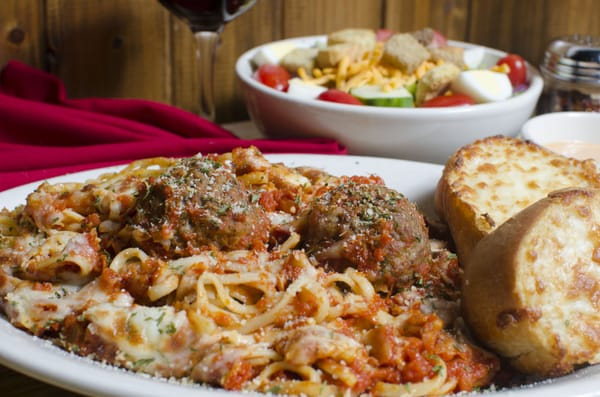pizza: (157, 0, 256, 124)
sushi: (235, 27, 544, 164), (520, 110, 600, 185)
